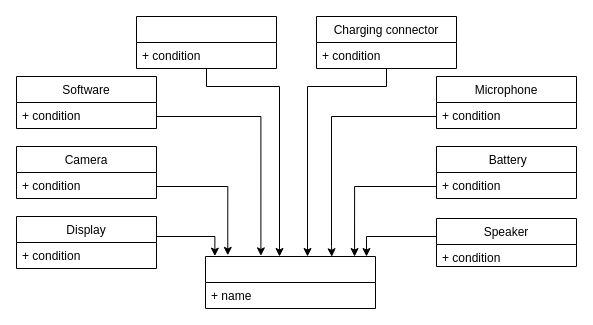
The diagram is 593 pixels wide and 325 high, and some of its shapes have lost their labels. Here are the shapes that lost their labels. From the top down, the box of each, then its label:
(136, 16, 276, 68): Charger
(204, 256, 376, 308): Recomendation
